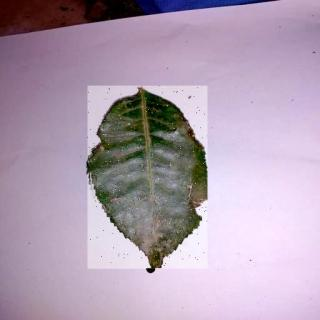Anthracnose: (89, 87, 209, 271)
